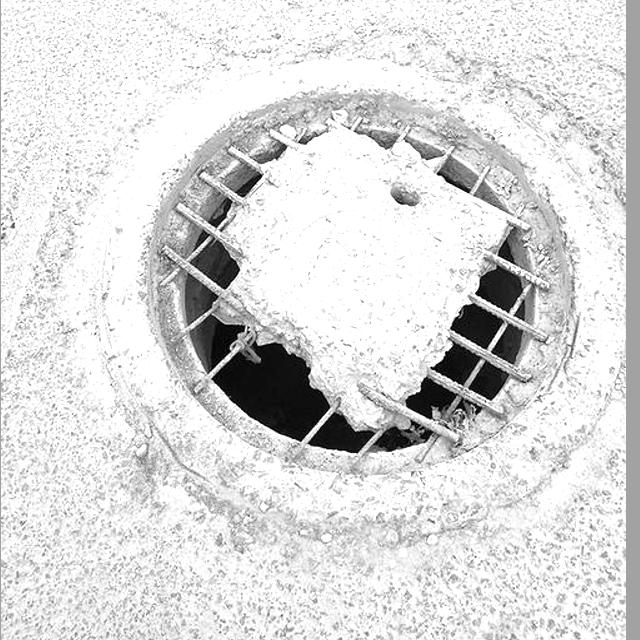broke: (91, 27, 612, 524)
